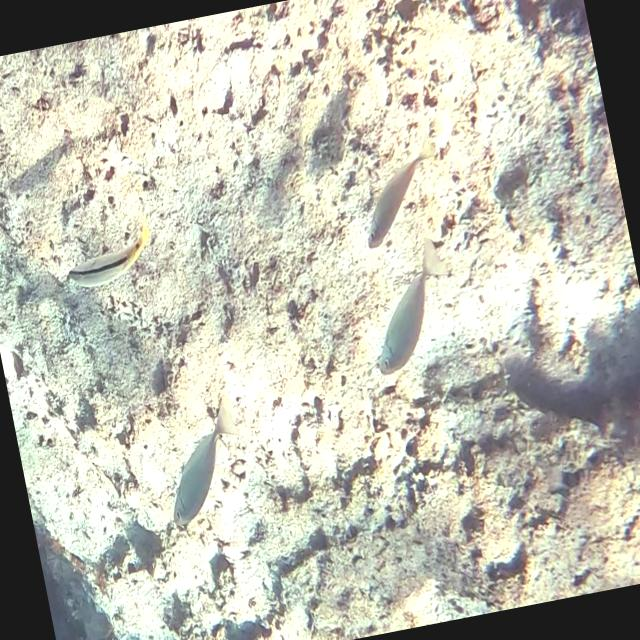Sokar Baligi: (350, 232, 470, 390), (145, 376, 258, 540), (334, 112, 454, 260), (50, 212, 162, 303)
